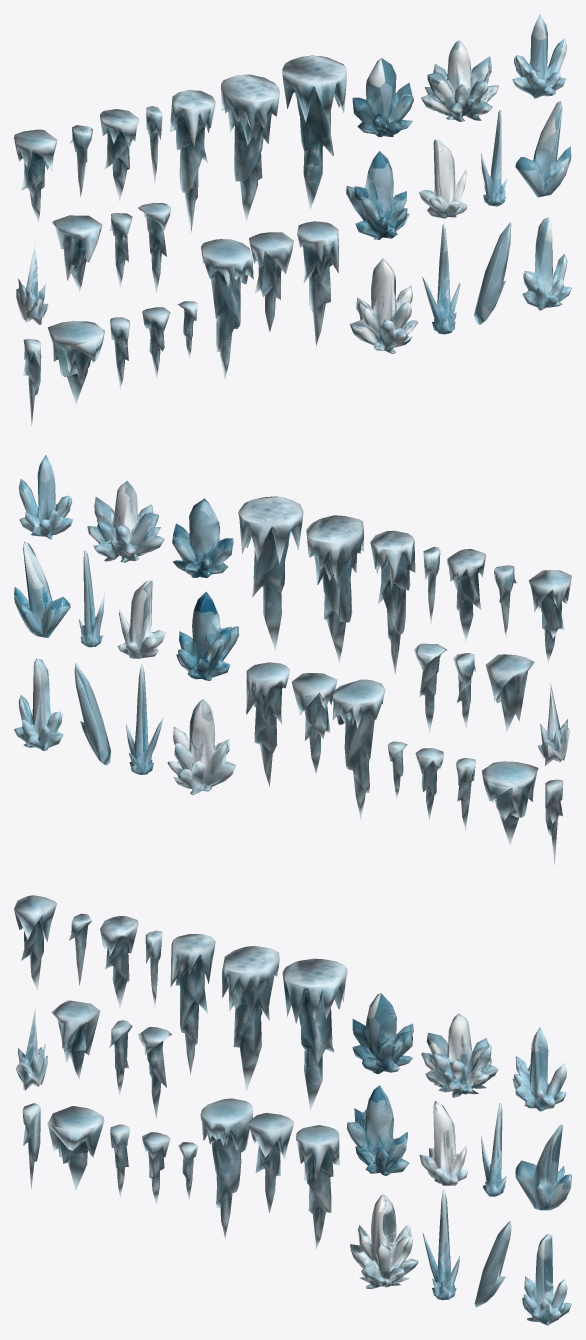
Rendered from Crystal_Lattice.glb.
3 renders of one model, top to bottom at view 1: azimuth 30°, elevation 25°; view 2: azimuth 150°, elevation 25°; view 3: azimuth 330°, elevation 25°, orthographic.
Parts seen in each view (by area): view 1: Crystal_Lattice; view 2: Crystal_Lattice; view 3: Crystal_Lattice.
Boxes of the visible parts, x1,y1,x2,y2 form: Crystal_Lattice: [14, 14, 571, 425]; Crystal_Lattice: [14, 455, 571, 864]; Crystal_Lattice: [14, 895, 571, 1325].
Size of the model in its own units: 1.9 by 0.9652 by 0.2553.
1 material, 1 textured.
